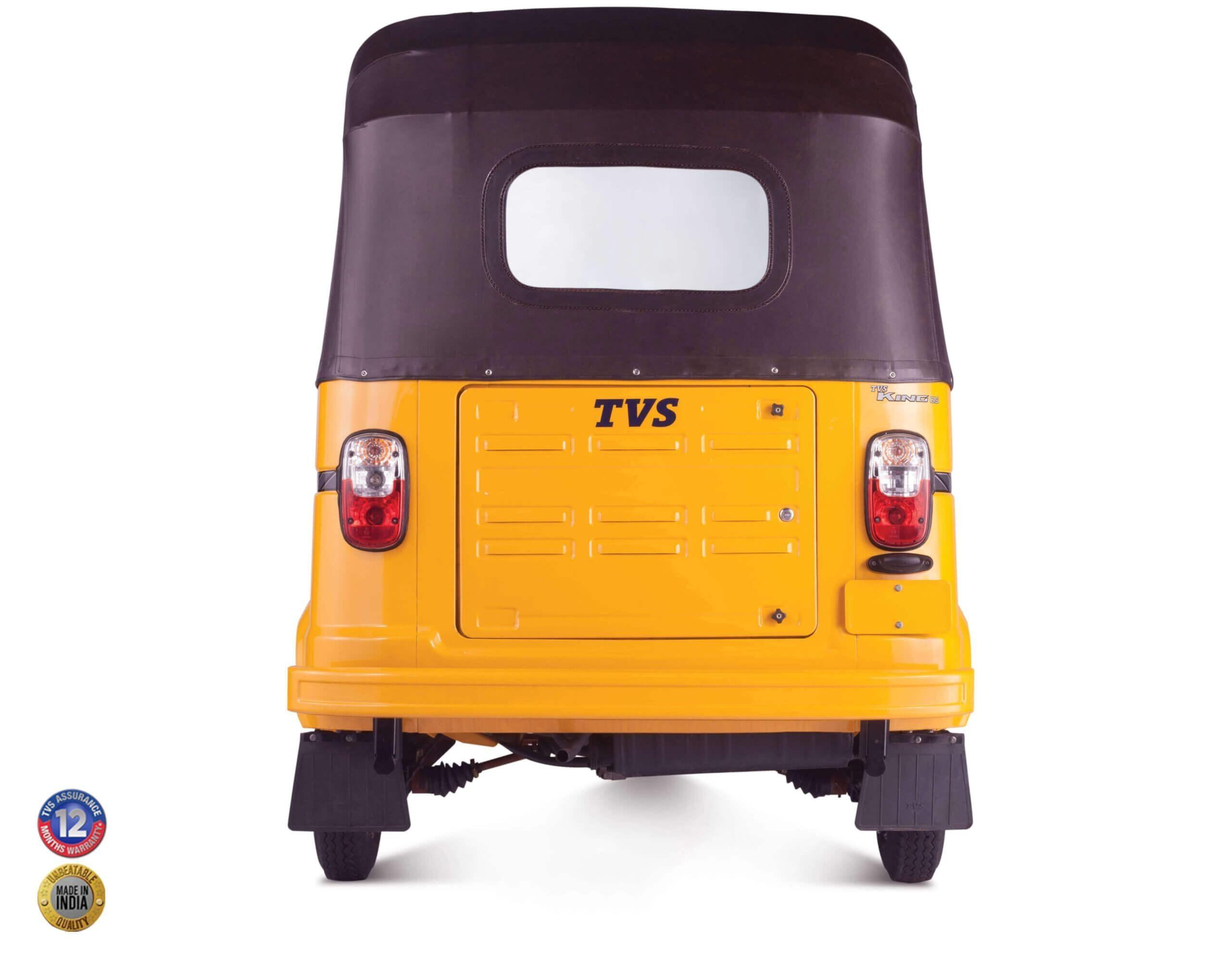keke: (272, 0, 1031, 894)
